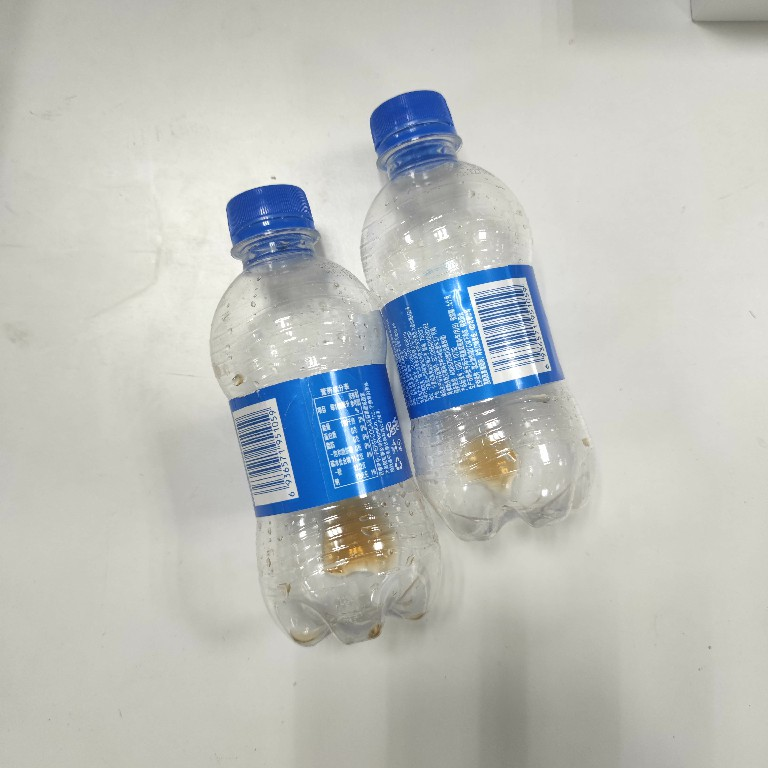bottle: (355, 87, 598, 548), (203, 182, 438, 652)
